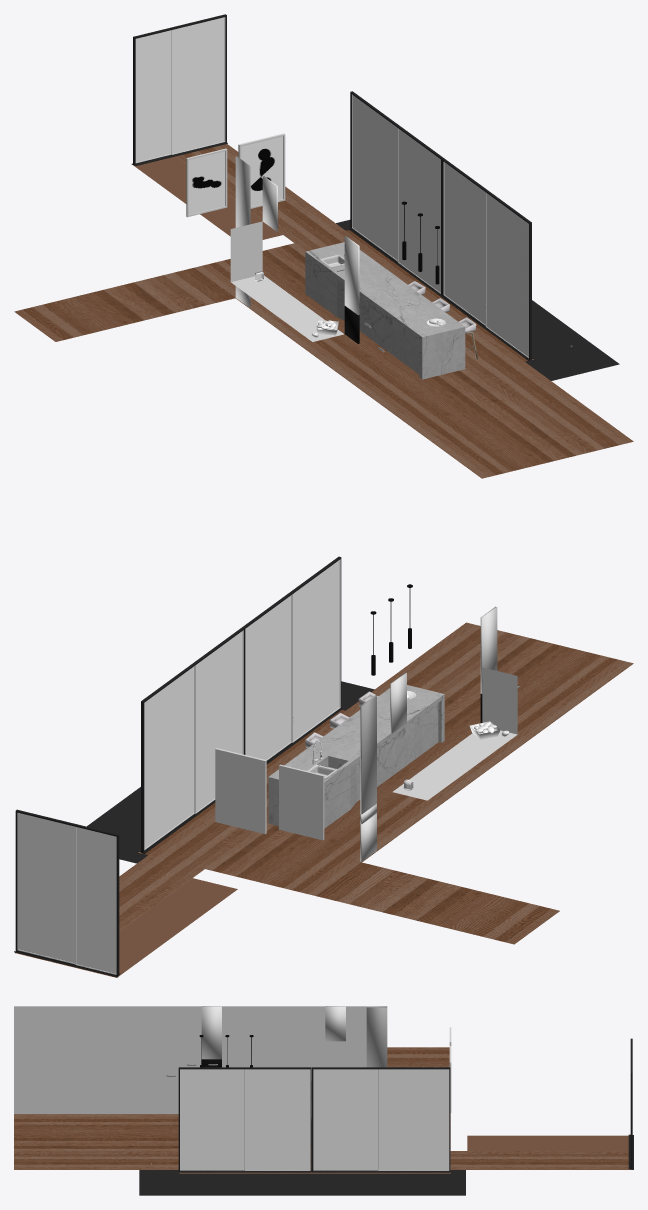
File: Kitchen.glb
The picture shows the model from 3 angles, top to bottom: view 1: azimuth 30°, elevation 25°; view 2: azimuth 150°, elevation 25°; view 3: azimuth 270°, elevation 25°; orthographic projection. The views are drawn at different scales.
Parts seen in each view (by area): view 1: Plane.001, Cube, Window Panel.004, Window Panel.002, Window Panel, Window Panel.001, Window Panel.003, Window Panel.005, Plane.003, Plane.002, Cube.012, Cube.013 (+6 smaller); view 2: Plane.001, Cube, Window Panel.004, Window Panel.002, Window Panel, Window Panel.001, Window Panel.003, Window Panel.005, Plane.003, Cube.013, Cube.012, Plane.002 (+7 smaller); view 3: Plane.003, Plane.001, Plane.002, Window Panel.002, Window Panel.001, Window Panel.003, Window Panel, Plane.004, Window.001, Window, Plane.008, Plane.007 (+1 smaller).
Part boxes in pixels (x1,y1,x2,y2): Plane.001: (14, 144, 633, 478); Cube: (305, 242, 465, 379); Window Panel.004: (171, 17, 225, 154); Window Panel.002: (352, 94, 397, 261); Window Panel: (485, 192, 528, 358); Window Panel.001: (443, 162, 485, 325); Window Panel.003: (397, 128, 440, 293); Window Panel.005: (135, 30, 171, 163); Plane.003: (230, 221, 343, 341); Plane.002: (336, 220, 619, 380); Cube.012: (186, 148, 227, 217); Cube.013: (238, 133, 285, 208); Plane.001: (15, 622, 633, 977); Cube: (268, 685, 444, 828); Window Panel.004: (17, 812, 74, 964); Window Panel.002: (144, 666, 194, 850); Window Panel: (291, 559, 340, 742); Window Panel.001: (245, 595, 291, 760); Window Panel.003: (194, 630, 243, 813); Window Panel.005: (75, 826, 116, 974); Plane.003: (393, 667, 517, 800); Cube.013: (215, 748, 266, 834); Cube.012: (279, 764, 324, 840); Plane.002: (87, 681, 374, 863); Plane.003: (14, 1006, 386, 1113); Plane.001: (14, 1047, 632, 1173); Plane.002: (139, 1170, 465, 1195); Window Panel.002: (378, 1069, 449, 1170); Window Panel.001: (244, 1069, 310, 1170); Window Panel.003: (313, 1069, 377, 1170); Window Panel: (180, 1069, 244, 1170); Plane.004: (366, 1006, 387, 1067); Window.001: (311, 1067, 450, 1172); Window: (178, 1067, 311, 1172); Plane.008: (201, 1006, 221, 1059); Plane.007: (325, 1006, 345, 1041).
Bounding box in the file's own units: 25.31 × 8.56 × 44.79.
Materials: 34 (4 with a texture image).
